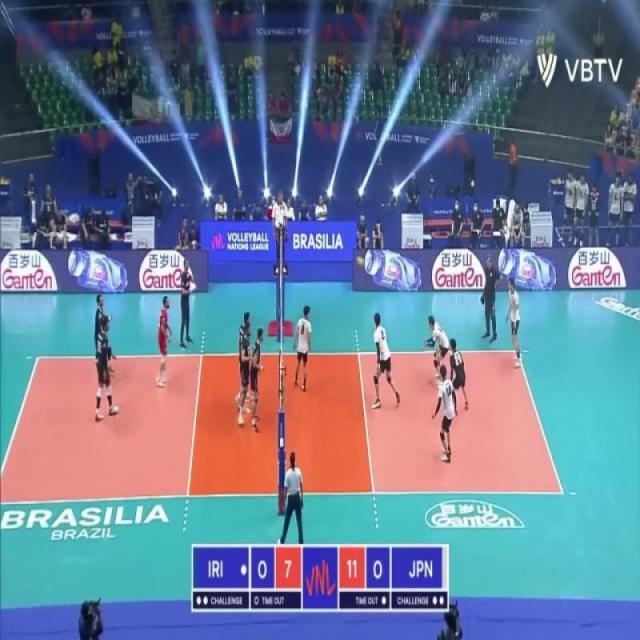volleyball: (356, 256, 364, 268), (0, 176, 7, 184), (556, 177, 563, 184), (552, 178, 558, 186)
